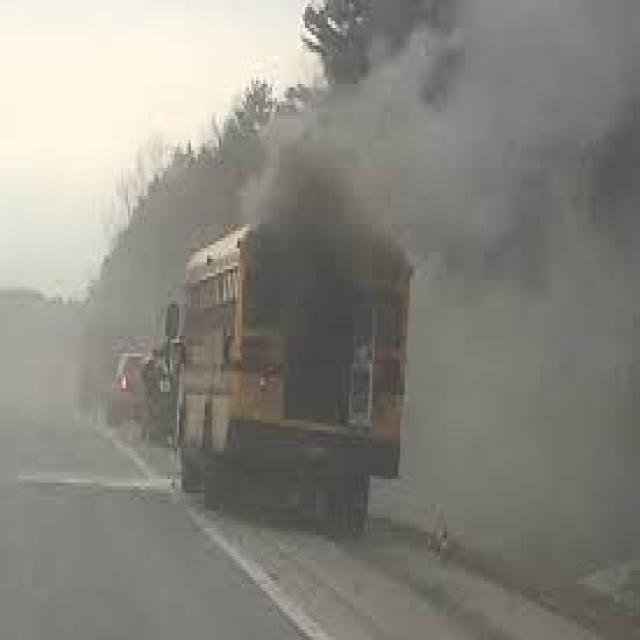Smoke: (232, 0, 640, 580)
